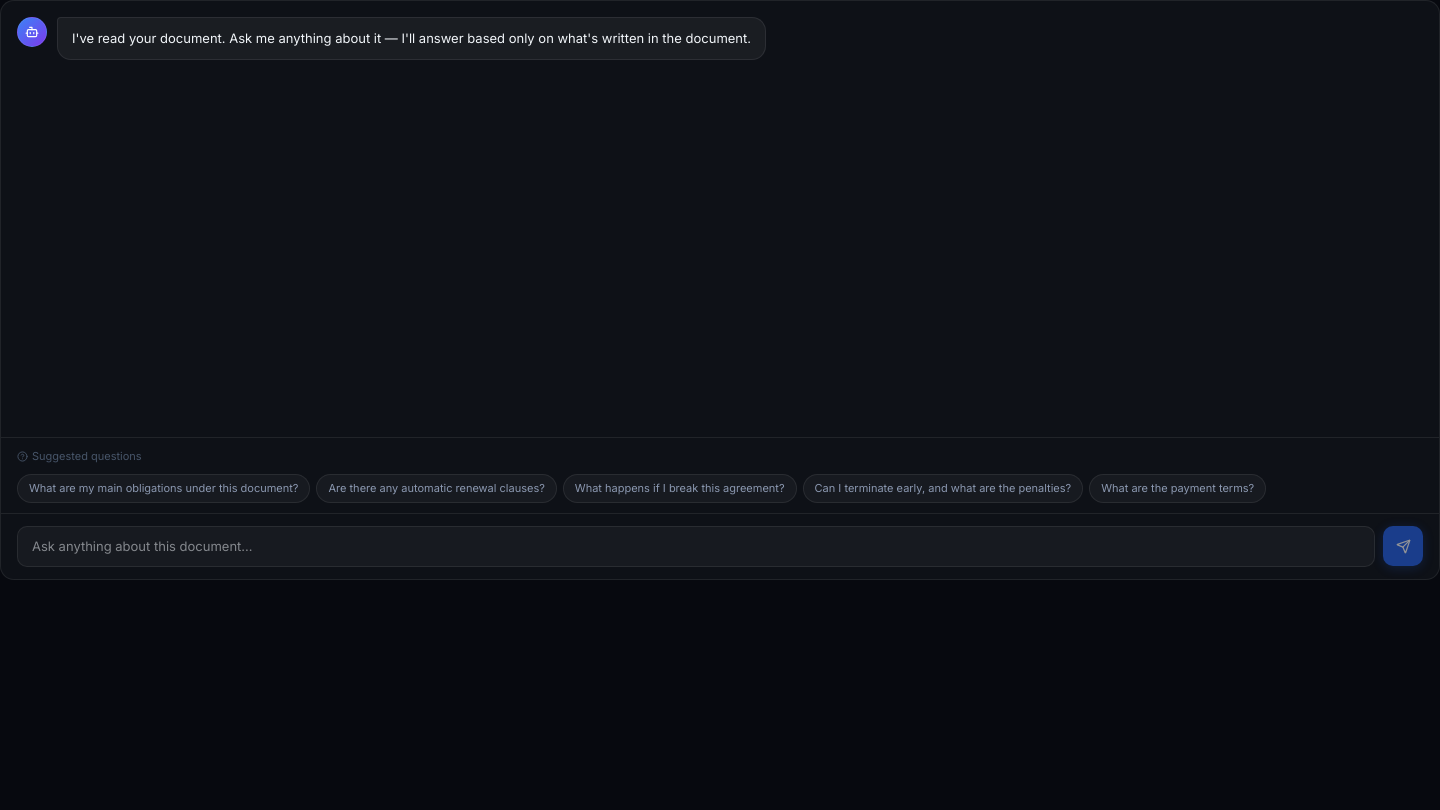
it: ChatInterface › hides suggested questions after first user message
This screenshot has width=1440, height=810.
Step 1. Type "What are my obligations?" into the field with placeholder "Ask anything about this document…" → x=696, y=547, box [17,526,1375,567]
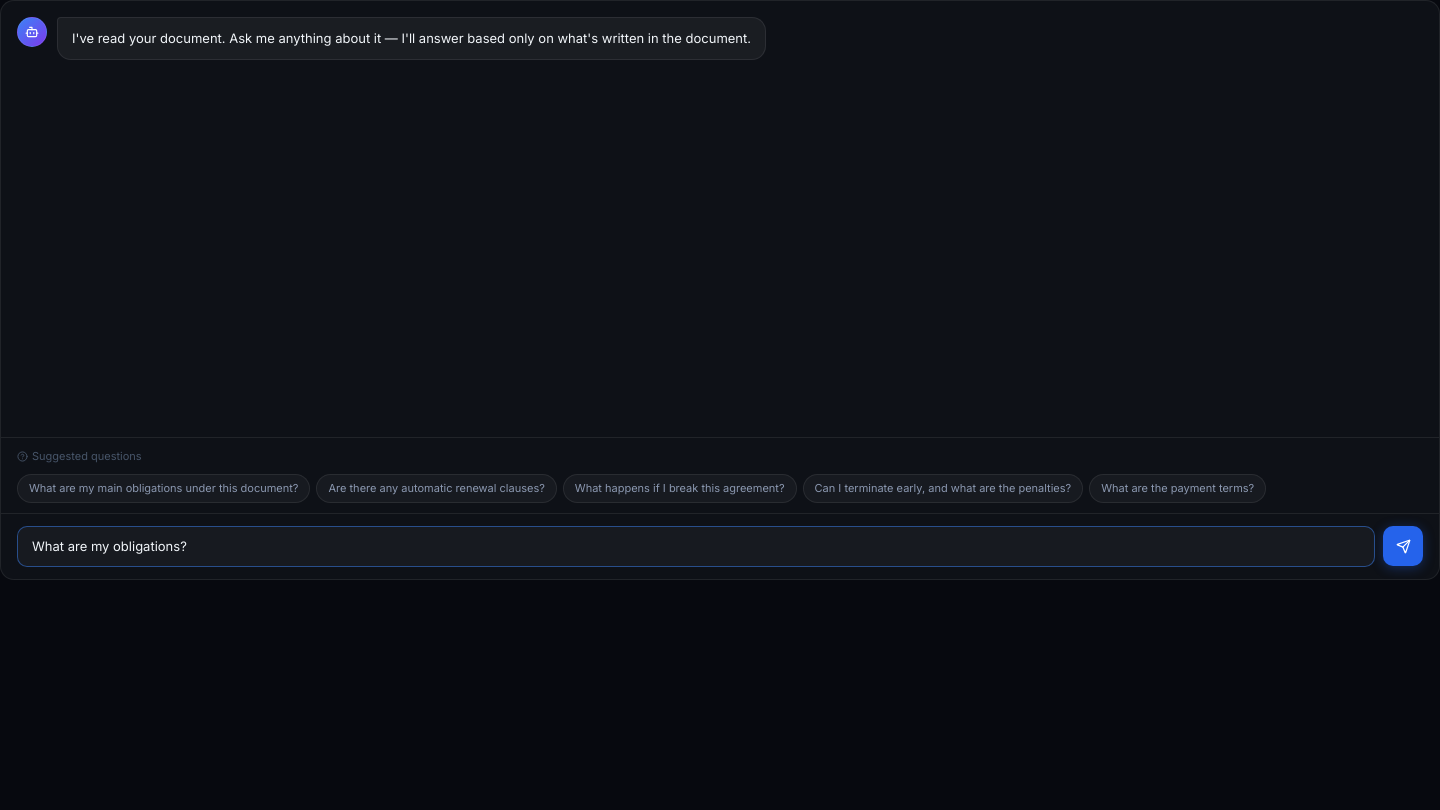
Step 2. Click the button named "Send question" → x=1403, y=546, box [1383,526,1423,566]
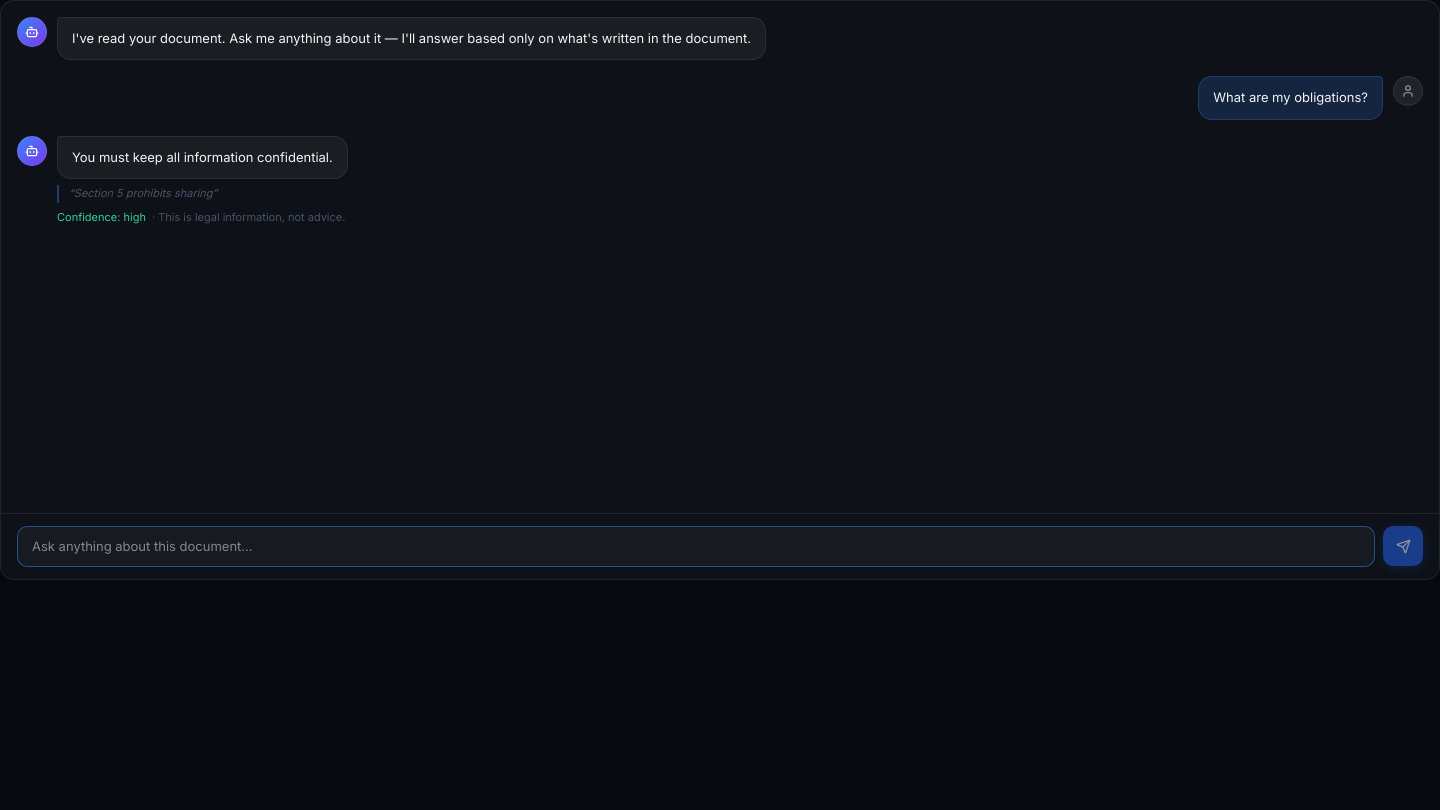
Expected: the text "Suggested questions" is gone
